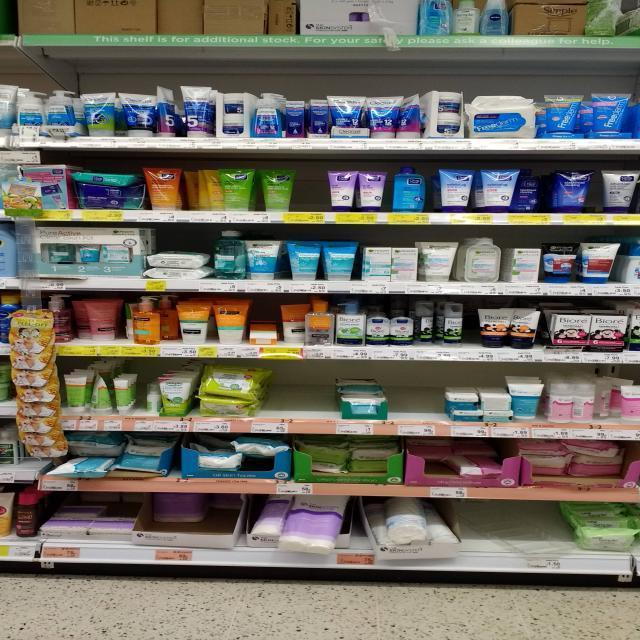Imprecise: (412, 434, 524, 492), (523, 440, 625, 482), (415, 435, 503, 478), (300, 438, 397, 474), (141, 496, 202, 542), (182, 164, 225, 208), (518, 165, 557, 212), (596, 377, 628, 424), (247, 304, 279, 344), (68, 299, 92, 339)
